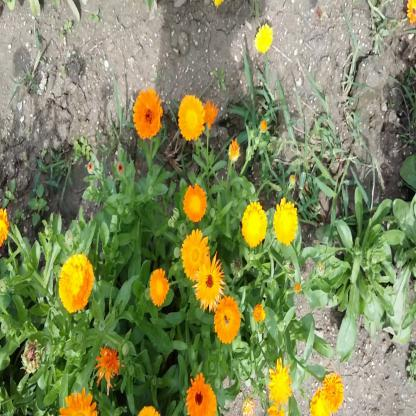marigold: (58, 255, 92, 313), (194, 258, 223, 312), (134, 88, 162, 138), (186, 373, 216, 416), (268, 360, 295, 405), (178, 95, 203, 140), (215, 298, 239, 343), (243, 201, 267, 246), (273, 201, 297, 245), (183, 234, 207, 278), (317, 376, 347, 410), (184, 184, 208, 222), (94, 347, 118, 381), (148, 270, 169, 308), (253, 24, 277, 56)
